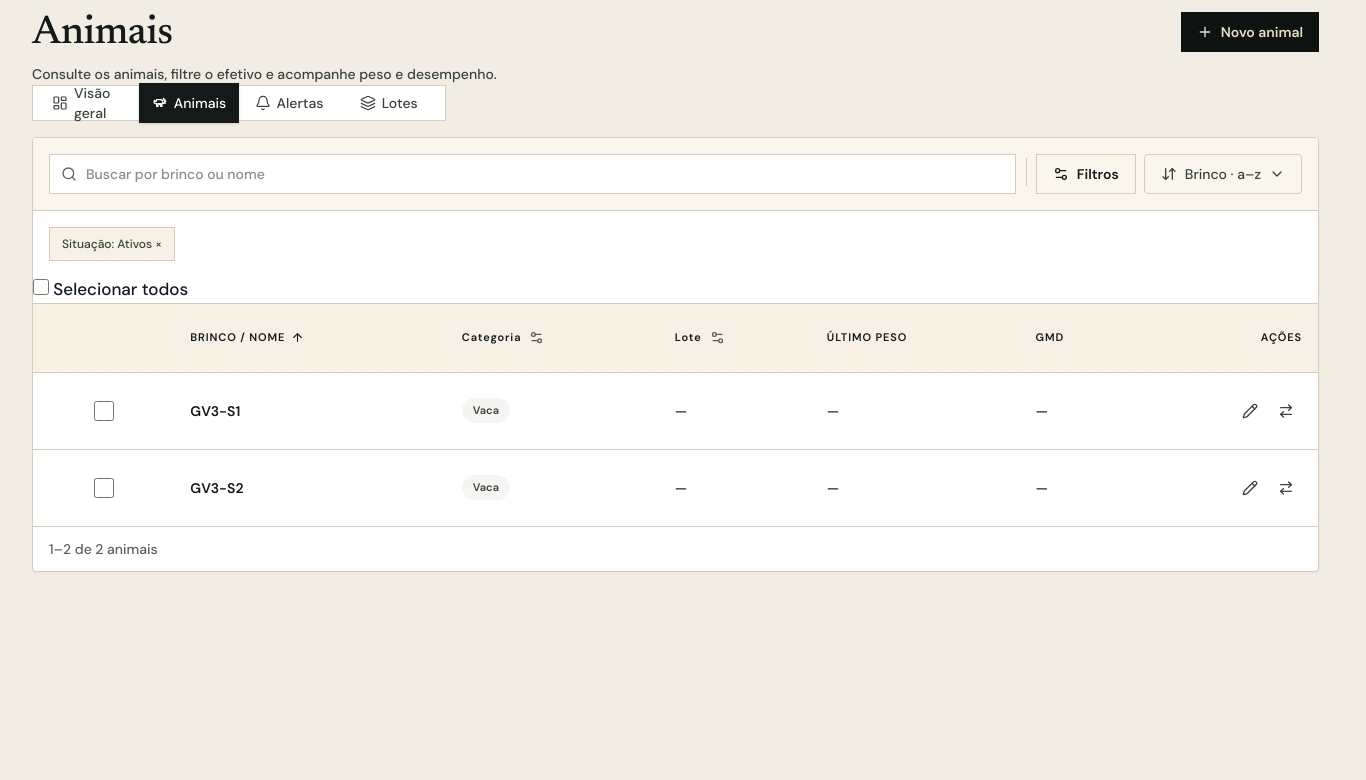
Test: ListaAnimais › mantém a seleção coletiva ao refinar a busca
This screenshot has width=1366, height=780.
Click the checkbox named "Selecionar GV3-S1" at (104, 410), box [94,400,114,420]
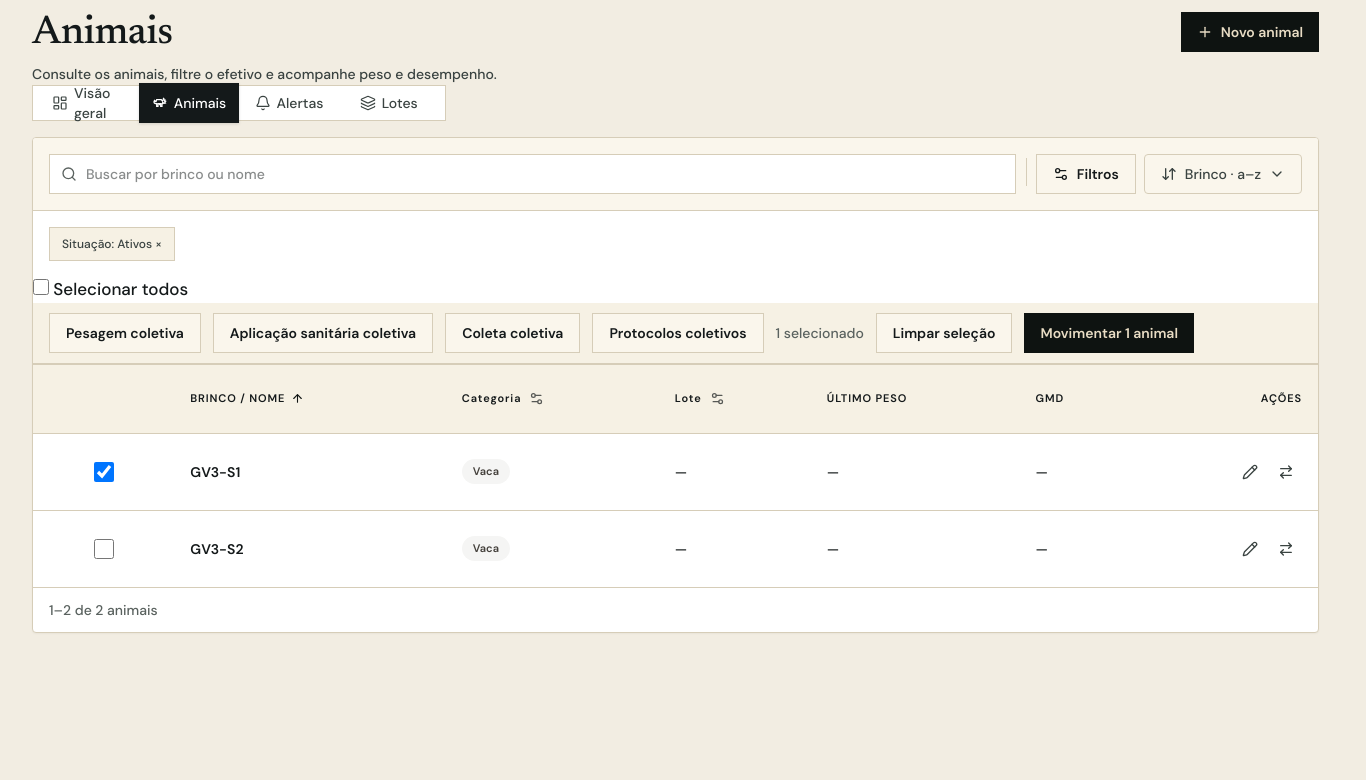
Result: the text "1 selecionado" is shown at [776,322,864,342]
Type "GV3-S2" into the field labelled "Buscar por brinco ou nome" at (532, 174), box [49,154,1016,194]
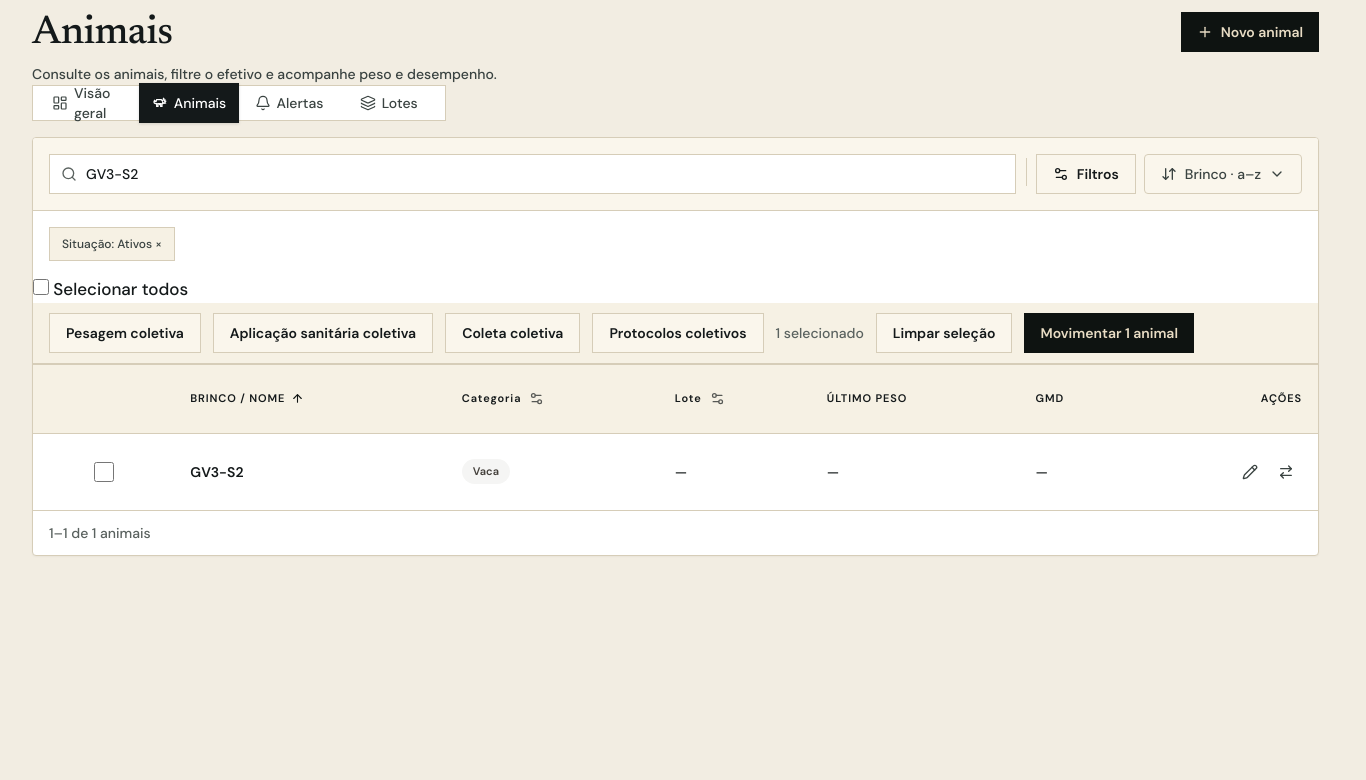
Result: the text "1 selecionado" is shown at [776,322,864,342]
Result: the checkbox named "Selecionar GV3-S2" is not checked at [94,462,114,482]
